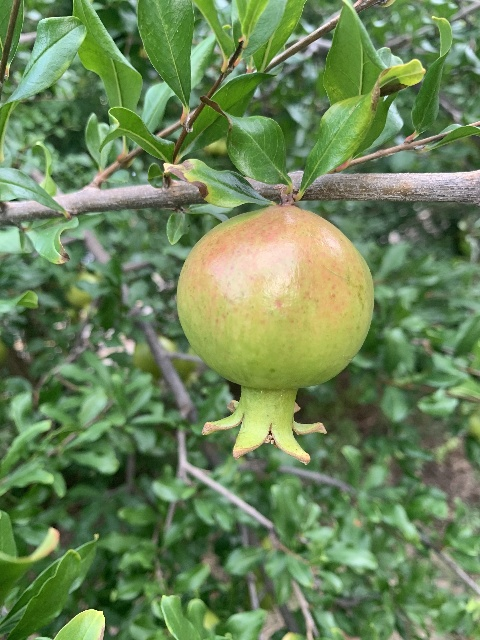mid-growth: (175, 204, 374, 464)
